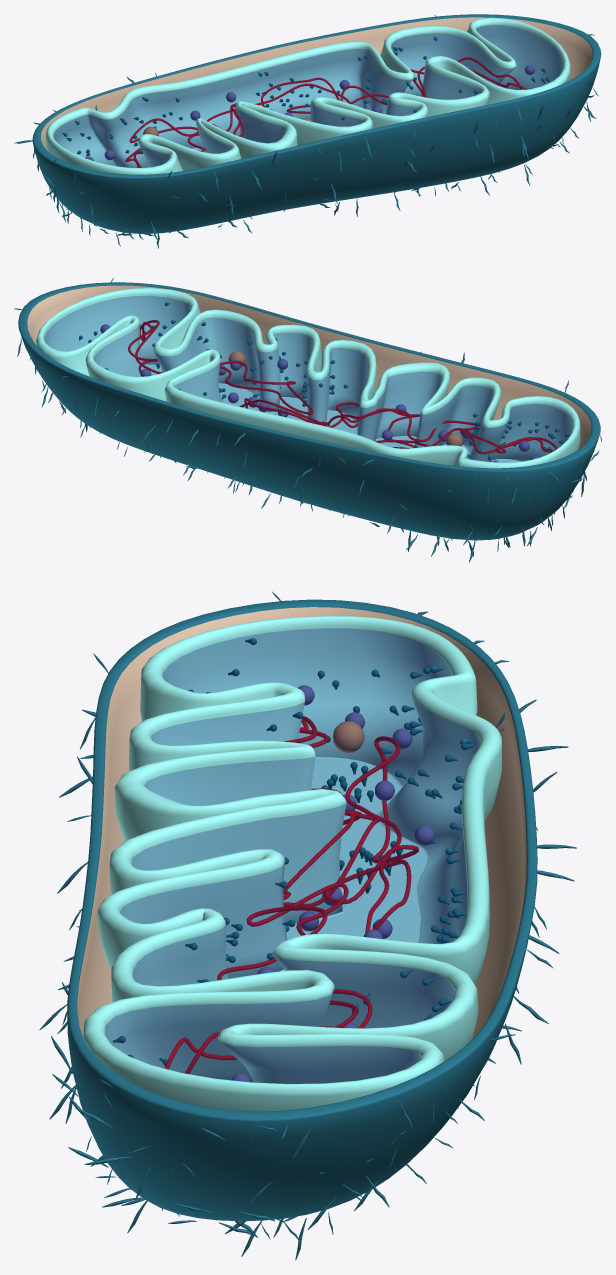
File: Mito.gltf
3 views of the same model, one above another, from view 1: azimuth 30°, elevation 25°; view 2: azimuth 150°, elevation 25°; view 3: azimuth 270°, elevation 25° (orthographic). The views are drawn at different scales.
Visible parts, largest first — view 1: Cube.001, BezierCircle.002, BezierCircle.003, BezierCircle.004; view 2: BezierCircle.002, Cube.001, BezierCircle.003, BezierCircle.004; view 3: BezierCircle.002, BezierCircle.003, Cube.001, BezierCircle.004.
Part boxes in pixels (x1,y1,x2,y2): Cube.001: [32, 14, 600, 233]; BezierCircle.002: [46, 18, 570, 174]; BezierCircle.003: [54, 25, 562, 167]; BezierCircle.004: [125, 57, 527, 167]; BezierCircle.002: [36, 288, 580, 468]; Cube.001: [18, 282, 600, 540]; BezierCircle.003: [45, 296, 571, 462]; BezierCircle.004: [128, 320, 557, 454]; BezierCircle.002: [83, 616, 501, 1111]; BezierCircle.003: [105, 628, 479, 1083]; Cube.001: [67, 599, 537, 1221]; BezierCircle.004: [164, 716, 418, 1073].
Size of the model in its own units: 8.07 by 1.77 by 3.45.
